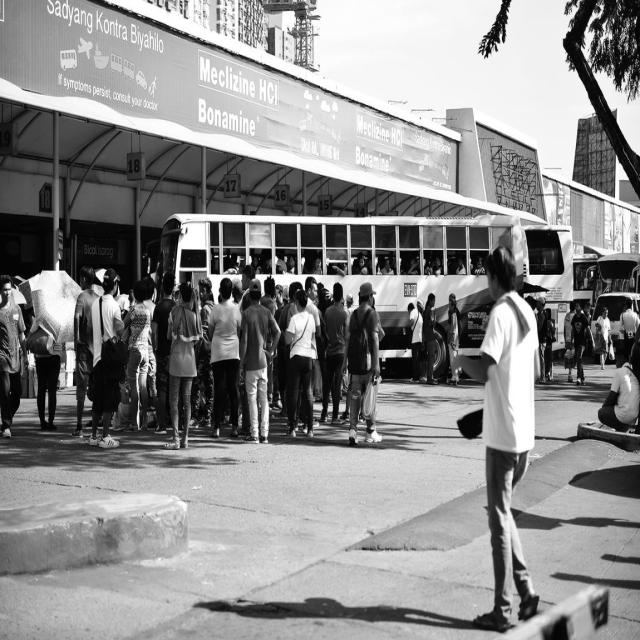body: (448, 242, 545, 634), (184, 586, 491, 634), (84, 267, 132, 449), (236, 276, 282, 446), (339, 282, 383, 448), (163, 280, 201, 450), (206, 275, 244, 440), (180, 276, 218, 432), (282, 288, 318, 440), (70, 264, 100, 440), (0, 272, 30, 441), (120, 279, 152, 434), (150, 270, 178, 437), (24, 319, 64, 433), (596, 342, 640, 440), (319, 281, 348, 425), (272, 279, 302, 415), (338, 290, 365, 423), (301, 275, 323, 427), (563, 299, 596, 387), (304, 275, 322, 429), (260, 275, 276, 403), (340, 292, 357, 398), (404, 301, 424, 385), (422, 292, 439, 386), (594, 305, 615, 371), (618, 296, 640, 356), (534, 295, 548, 386), (563, 299, 577, 383), (446, 296, 459, 386), (368, 293, 384, 365), (448, 298, 460, 379), (416, 299, 427, 383), (544, 307, 556, 381), (324, 249, 348, 276), (195, 377, 207, 430), (314, 283, 334, 314), (143, 276, 156, 321), (240, 265, 256, 293), (120, 290, 134, 321), (231, 277, 246, 305), (352, 253, 370, 275), (427, 254, 444, 277), (471, 253, 488, 275), (190, 285, 201, 319), (165, 383, 172, 431), (223, 248, 238, 270), (221, 388, 230, 424), (178, 387, 185, 433), (404, 257, 421, 275), (251, 254, 264, 275), (380, 257, 395, 275), (230, 253, 242, 274), (310, 257, 323, 274), (582, 299, 592, 321), (456, 255, 466, 276), (208, 286, 220, 303), (242, 292, 252, 312), (288, 254, 297, 274), (424, 258, 435, 274), (172, 284, 180, 306), (284, 254, 290, 272)
